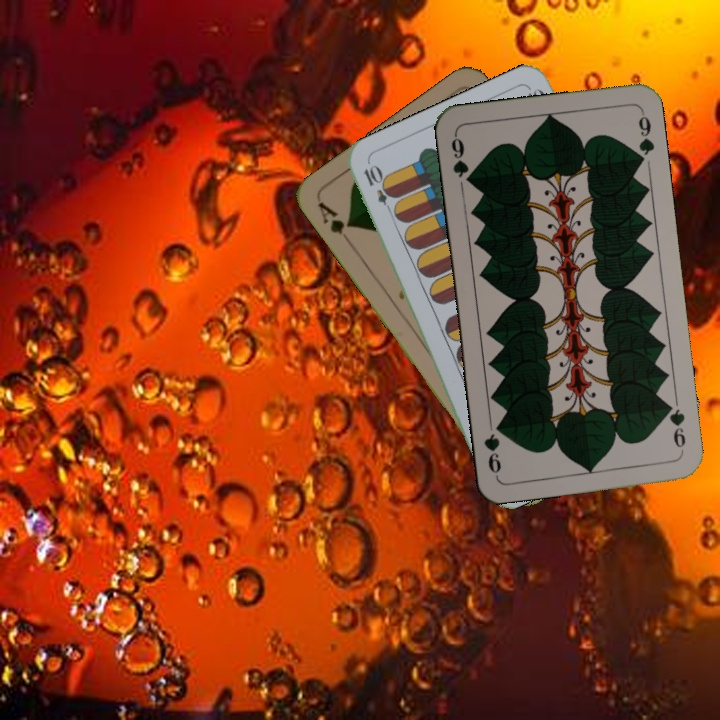E10: (359, 161, 397, 218)
G9: (447, 130, 476, 188), (662, 397, 688, 455)
GA: (313, 197, 355, 249)
